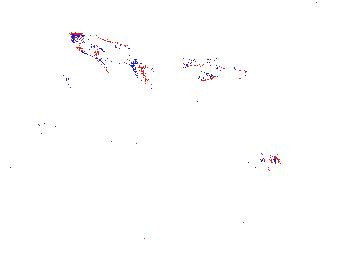red belly glassfish: (243, 153, 280, 171)
redtail glassfish: (68, 31, 150, 84), (34, 119, 130, 154), (178, 53, 249, 82)
